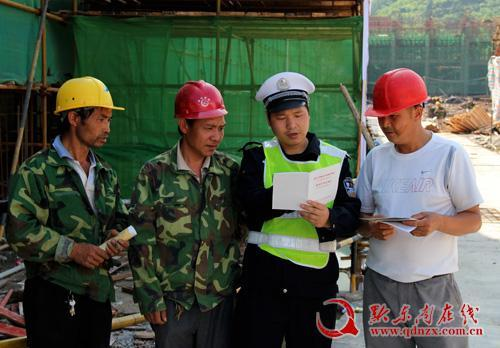helmet: (364, 70, 429, 119), (53, 77, 126, 116), (177, 80, 231, 120), (257, 73, 316, 105)
